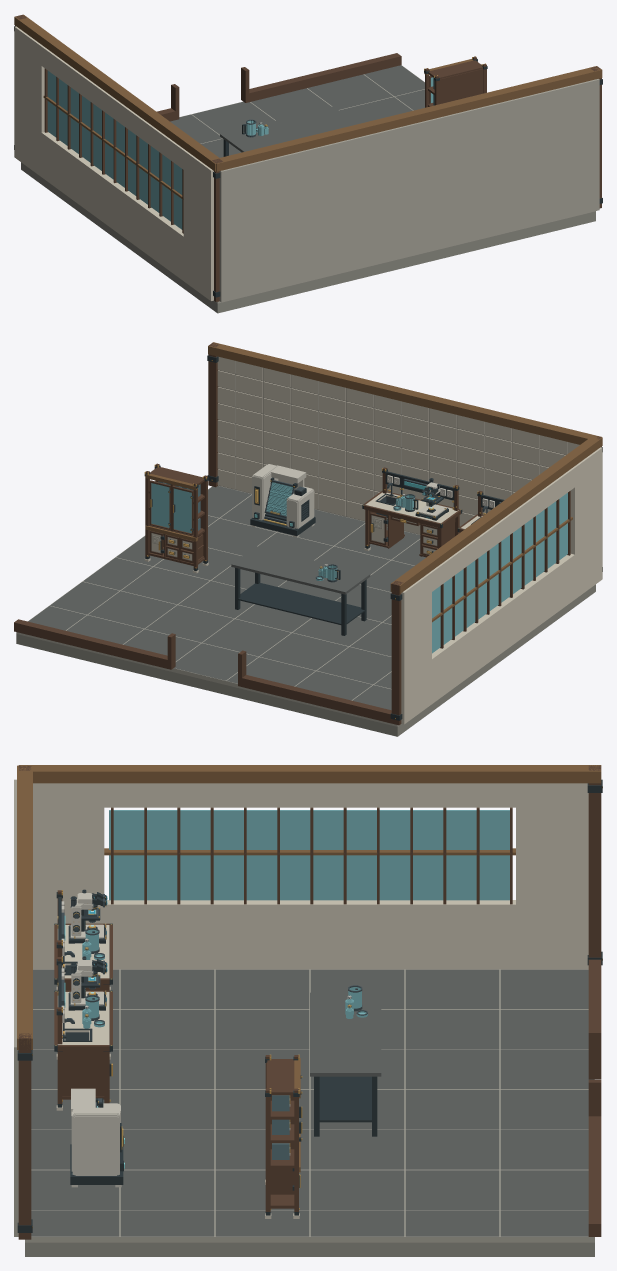
The model's file is visual-far.glb.
3 renders of one model, top to bottom at view 1: azimuth 30°, elevation 25°; view 2: azimuth 150°, elevation 25°; view 3: azimuth 270°, elevation 25°, orthographic. The views are drawn at different scales.
Parts seen in each view (by area): view 1: 真实窗洞、木梁与切角房间墙, 分层实心台基与独立石铺面, 实际承托工作面与四足, 科研资料柜 · 公共空间用途修正; view 2: 真实窗洞、木梁与切角房间墙, 分层实心台基与独立石铺面, 实际承托工作面与四足, 科研资料柜 · 公共空间用途修正, 实验台 · 公共空间用途修正 (×2), 实验仪器外壳, 显微观察设备; view 3: 分层实心台基与独立石铺面, 真实窗洞、木梁与切角房间墙, 实际承托工作面与四足, 实验台 · 公共空间用途修正 (×2), 科研资料柜 · 公共空间用途修正, 实验仪器外壳, 显微观察设备 (×2).
Part boxes in pixels (x1,y1,x2,y2): 真实窗洞、木梁与切角房间墙: (14,14,602,302); 分层实心台基与独立石铺面: (21,65,595,313); 实际承托工作面与四足: (220,106,357,156); 科研资料柜 · 公共空间用途修正: (424,56,487,107); 真实窗洞、木梁与切角房间墙: (14,342,602,725); 分层实心台基与独立石铺面: (16,485,595,736); 实际承托工作面与四足: (231,546,370,635); 科研资料柜 · 公共空间用途修正: (144,463,208,573); 实验台 · 公共空间用途修正 (×2): (362,467,504,557); 实验仪器外壳: (250,464,315,537); 显微观察设备: (415,478,448,520); 分层实心台基与独立石铺面: (25,969,594,1256); 真实窗洞、木梁与切角房间墙: (14,765,602,1239); 实际承托工作面与四足: (310,992,381,1136); 实验台 · 公共空间用途修正 (×2): (54,890,112,1110); 科研资料柜 · 公共空间用途修正: (265,1054,302,1218); 实验仪器外壳: (70,1088,124,1187); 显微观察设备 (×2): (68,889,107,1010).
Size of the model in its own units: 8.24 by 3.08 by 7.44.
25 materials, 25 textured.
